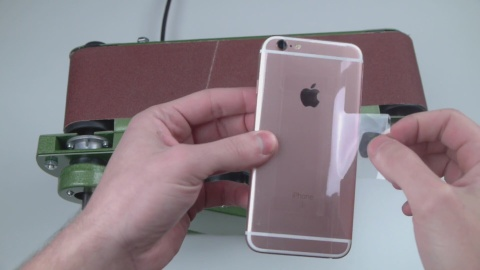apple: (290, 75, 329, 115)
